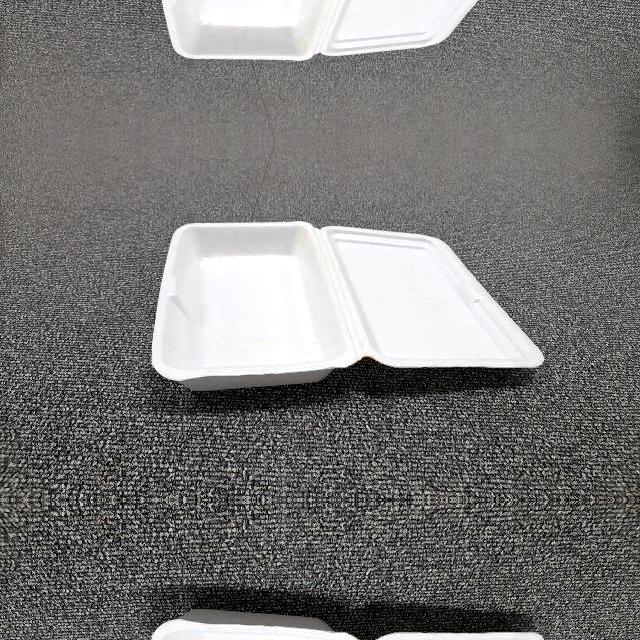Styrofoam: (151, 220, 543, 392), (151, 220, 545, 390), (151, 0, 543, 60), (161, 0, 478, 60)
